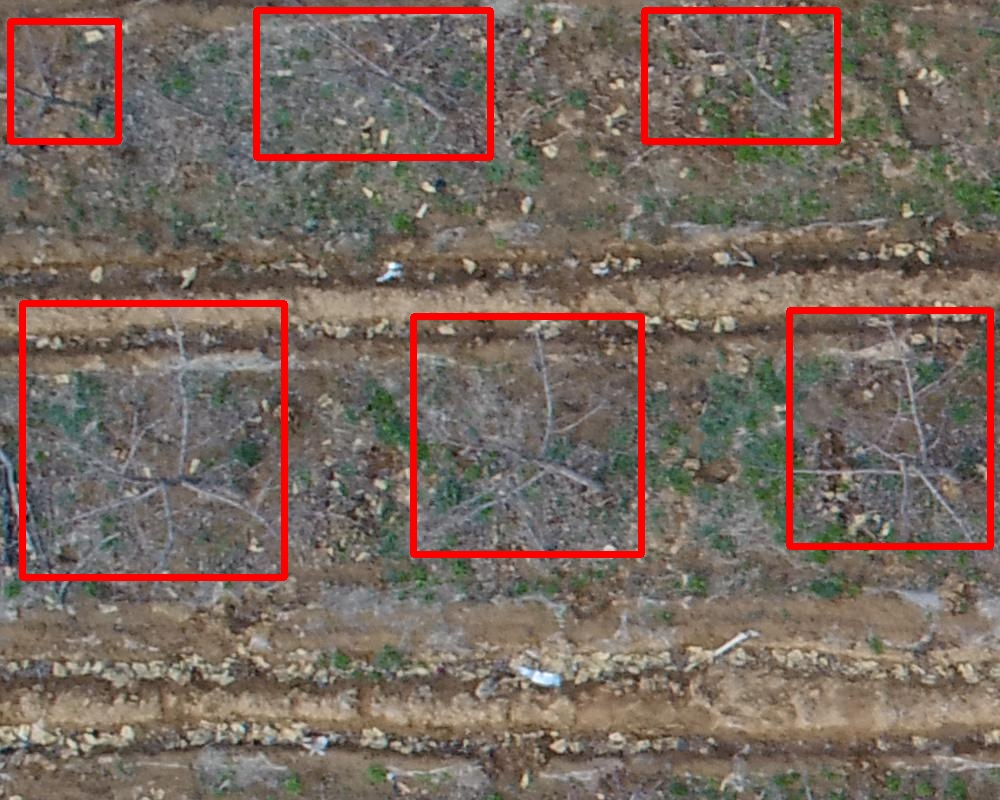apple: (22, 303, 284, 577), (413, 316, 641, 554), (789, 310, 990, 546), (256, 10, 490, 157), (644, 10, 837, 141), (10, 21, 118, 141)
